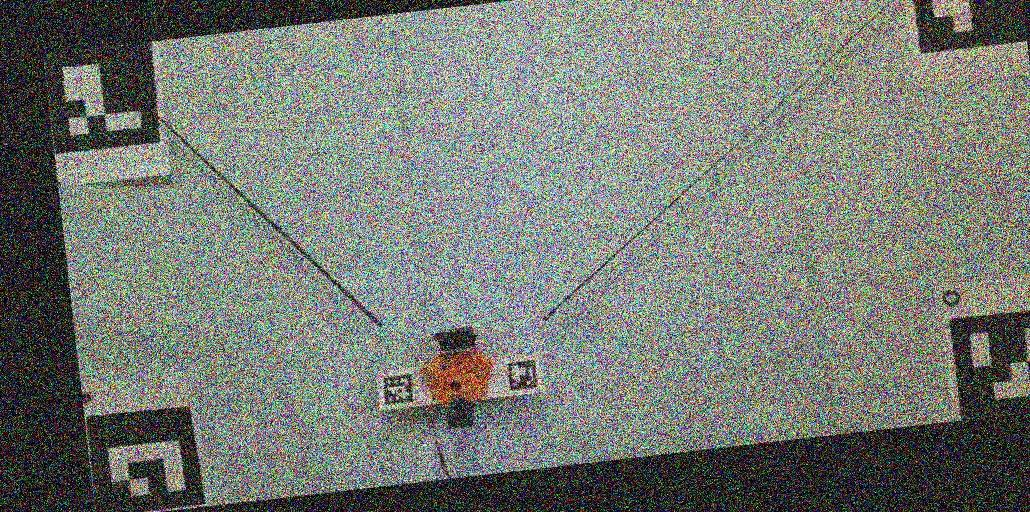robot: (421, 326, 491, 428)
